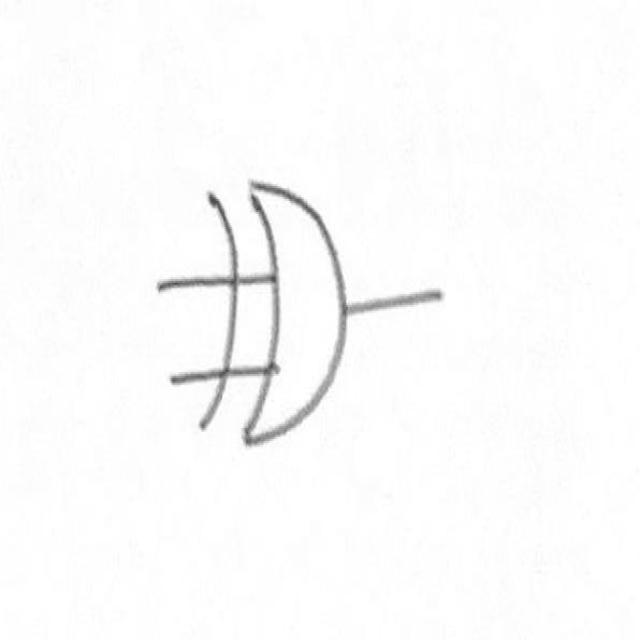XOR: (195, 154, 358, 473)
